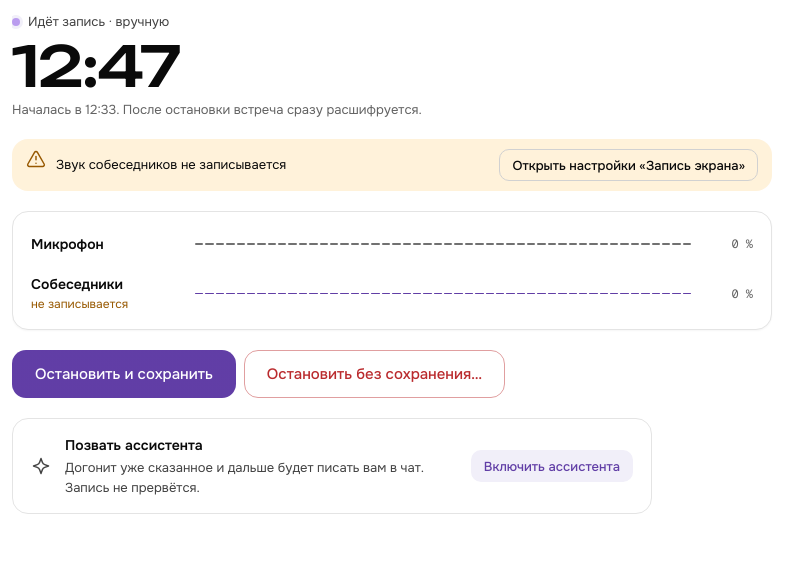
Test: настройки не открылись — ошибка видна
This screenshot has width=789, height=571.
Click the button "Открыть настройки «Запись экрана»". click: coordinates (629, 165)
box: [500, 149, 758, 181]
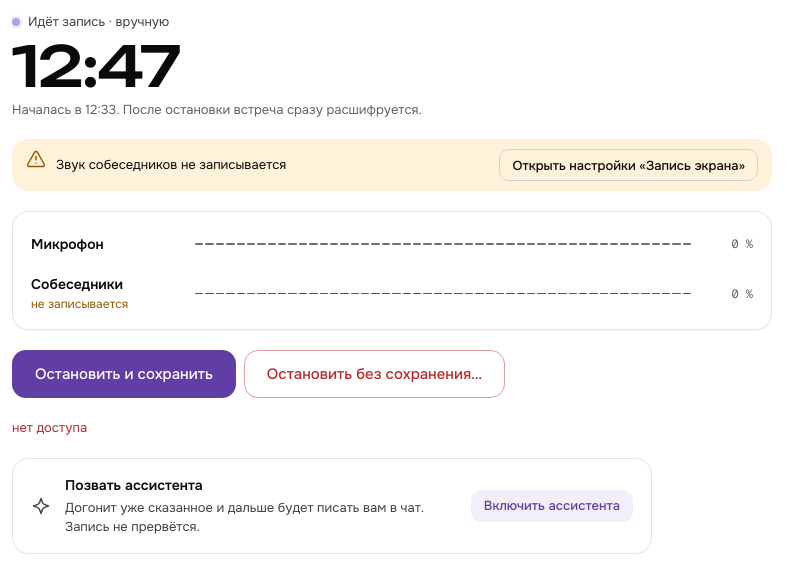
Now the message "нет доступа" is shown, box [12, 419, 87, 436]
